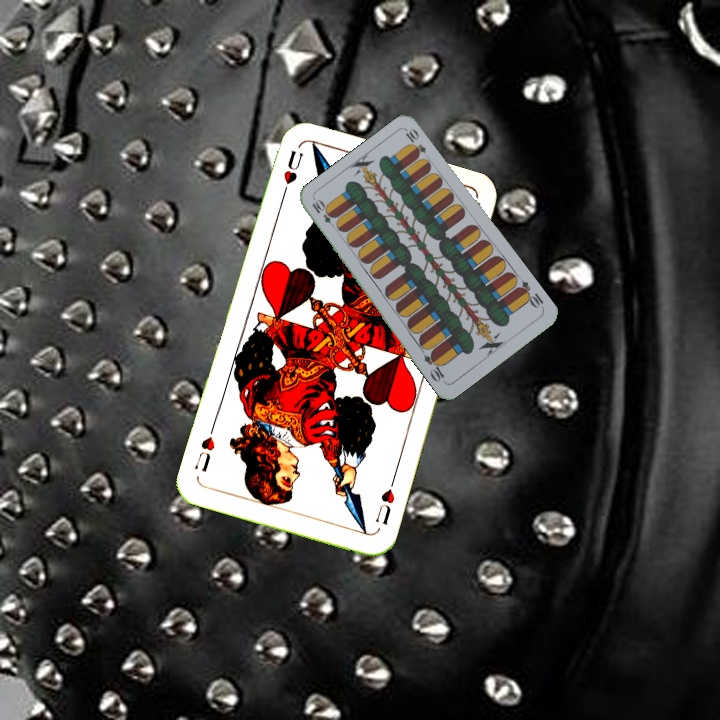E10: (513, 277, 547, 312), (308, 196, 340, 232)
HU: (277, 146, 306, 202), (371, 485, 397, 528)
